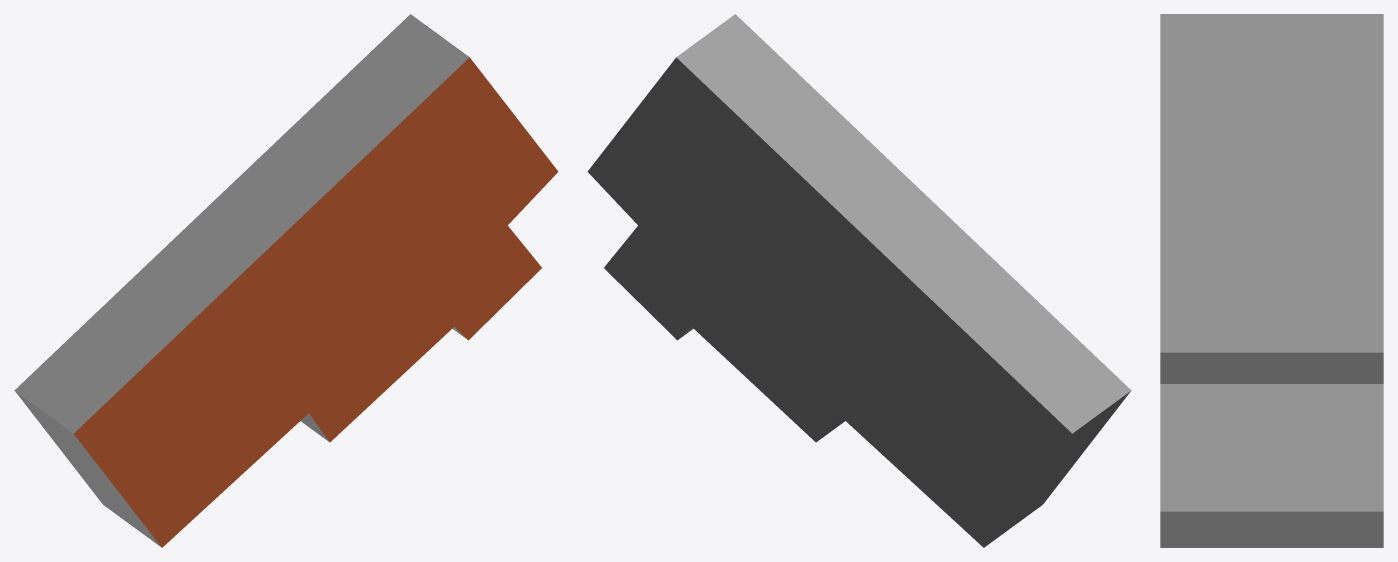
Rendered from construction_4460_assumed_A_Casa_h6m.obj.
The picture shows the model from 3 angles, left to right: view 1: azimuth 30°, elevation 25°; view 2: azimuth 150°, elevation 25°; view 3: azimuth 270°, elevation 25°; orthographic projection. The views are drawn at different scales.
Parts seen in each view (by area): view 1: construction_4460_assumed_A_Casa; view 2: construction_4460_assumed_A_Casa; view 3: construction_4460_assumed_A_Casa.
Boxes of the visible parts, x1,y1,x2,y2 form: construction_4460_assumed_A_Casa: (14, 14, 558, 547); construction_4460_assumed_A_Casa: (587, 14, 1131, 547); construction_4460_assumed_A_Casa: (1160, 14, 1383, 547).
Size of the model in its own units: 28.39 by 23.25 by 6.
